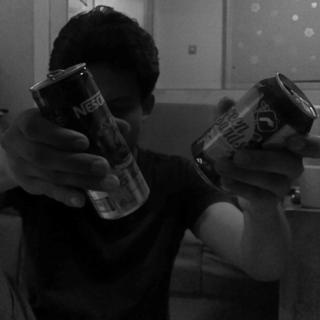alumunium_can: (28, 62, 151, 223), (192, 71, 316, 194)
